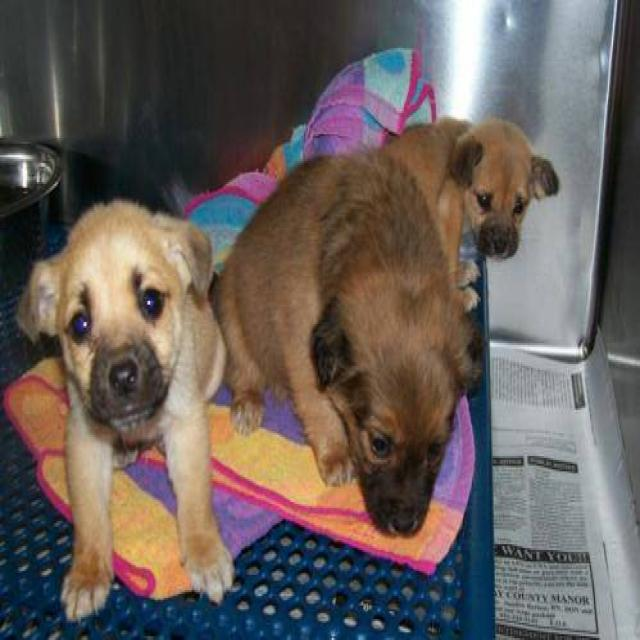cat: (189, 131, 476, 562), (356, 84, 569, 314)
dog: (14, 195, 236, 621)
